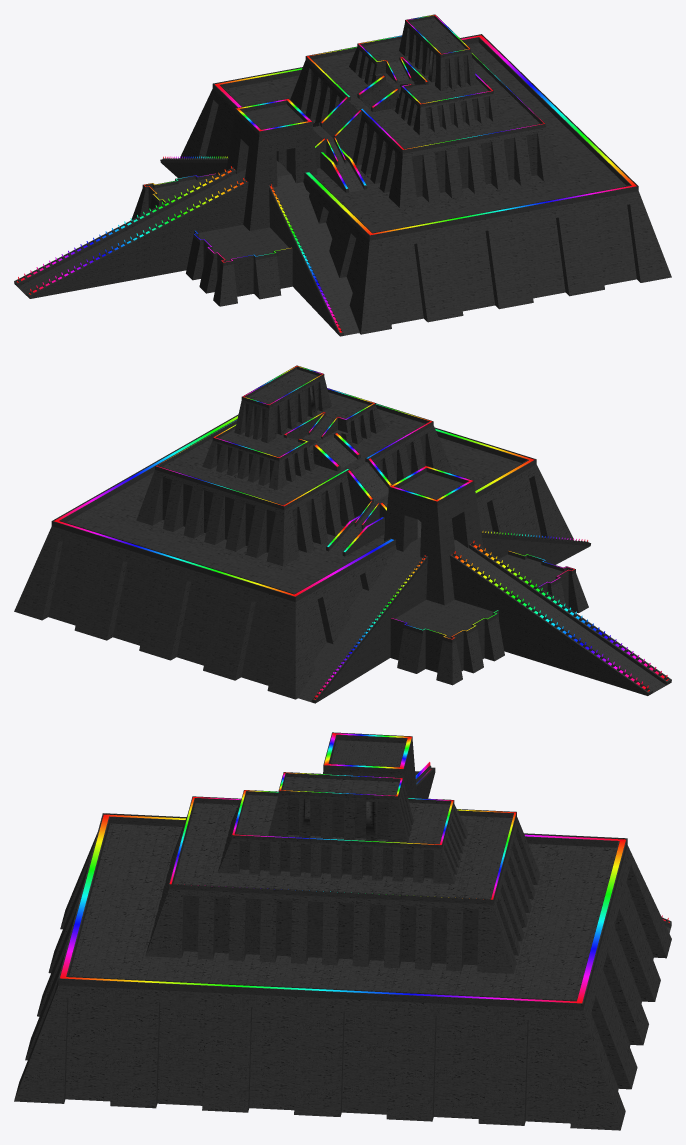
Rendered from xenosands-ziggurat.glb.
3 renders of one model, top to bottom at view 1: azimuth 30°, elevation 25°; view 2: azimuth 150°, elevation 25°; view 3: azimuth 270°, elevation 25°, orthographic. The views are drawn at different scales.
Visible parts, largest first — view 1: ziggurat; view 2: ziggurat; view 3: ziggurat.
Boxes of the visible parts, x1,y1,x2,y2 form: ziggurat: (14, 14, 671, 336); ziggurat: (14, 365, 671, 703); ziggurat: (14, 732, 671, 1130).
Bounding box in the file's own units: 75.93 × 23.94 × 58.61.
2 materials, 2 textured.
